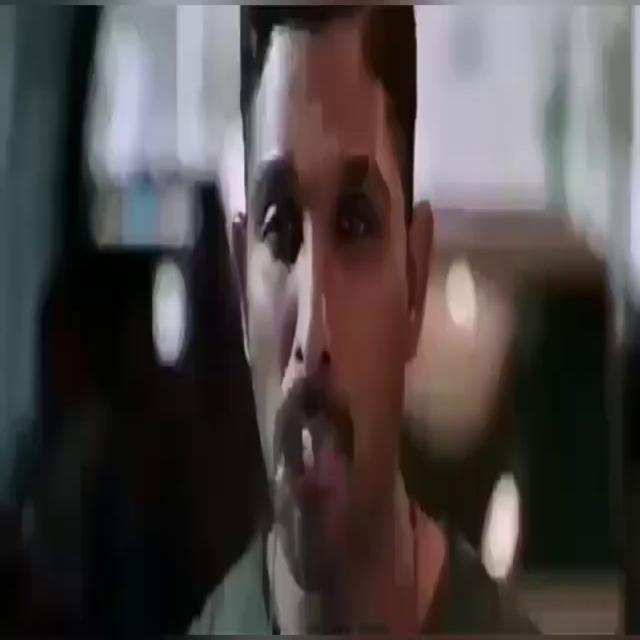smoking: (281, 423, 339, 438)
